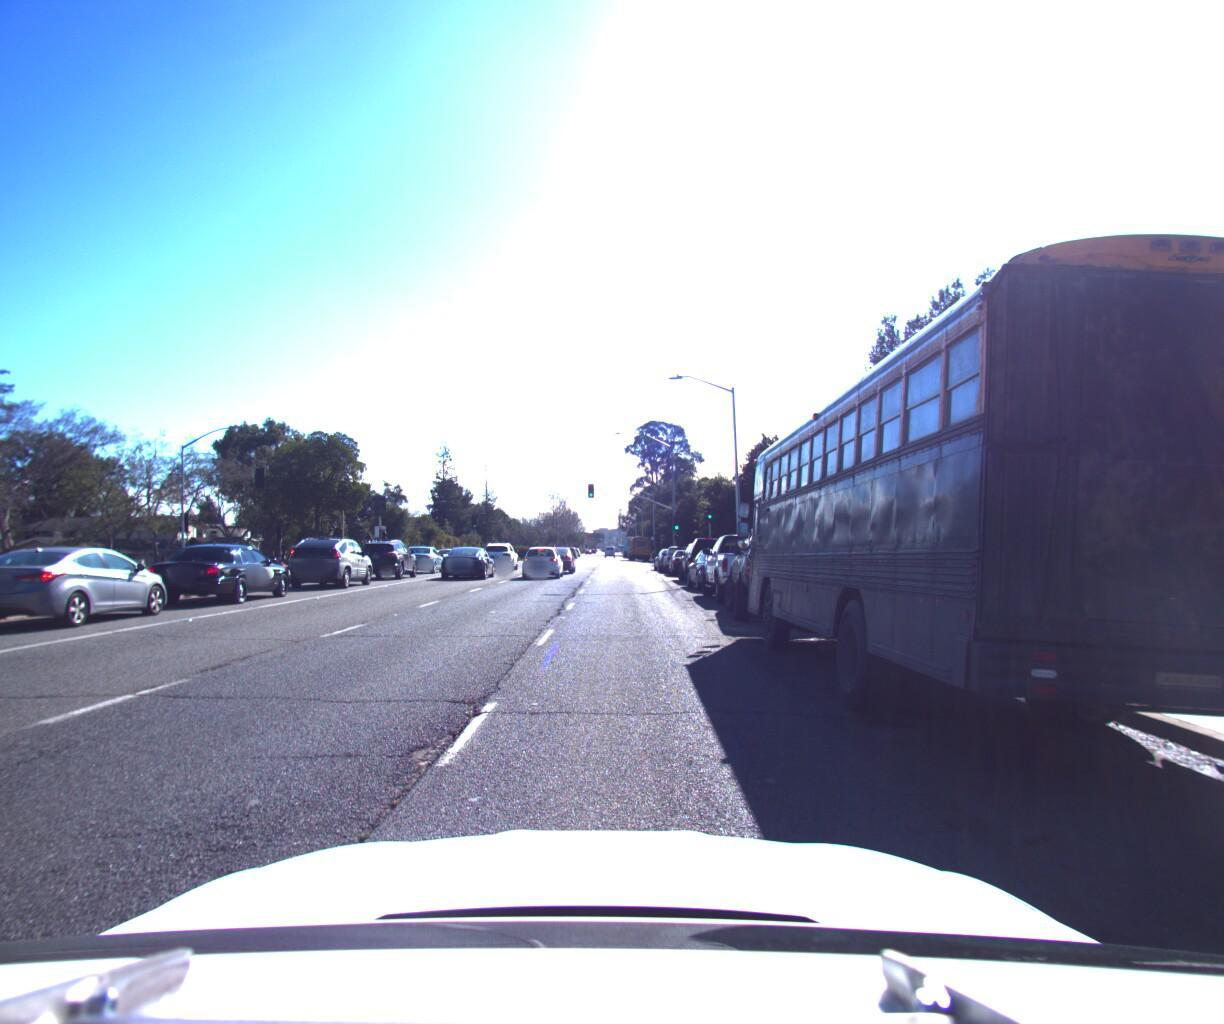bus: (737, 193, 1224, 842)
car: (0, 537, 184, 633), (724, 513, 844, 624), (139, 535, 303, 603), (700, 522, 804, 601), (278, 527, 382, 588), (682, 538, 756, 587), (354, 533, 424, 575), (677, 527, 735, 577), (439, 535, 498, 573), (521, 533, 566, 569), (476, 529, 521, 562), (401, 537, 448, 567), (662, 536, 700, 567), (539, 536, 579, 565)
